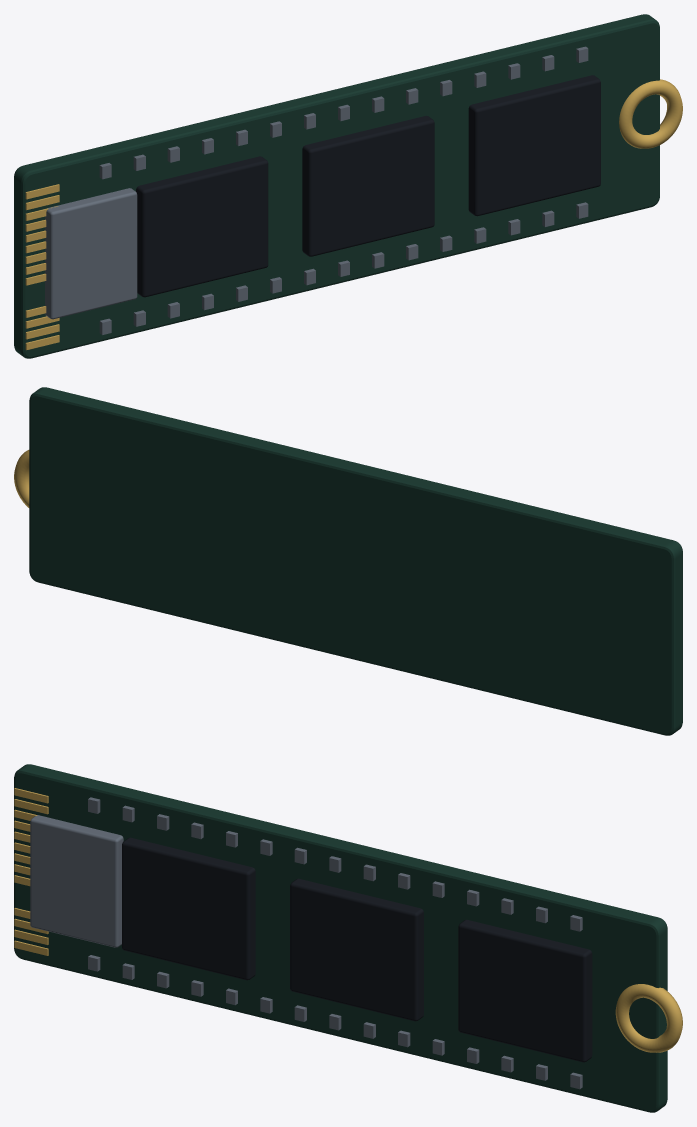
File: nexrig-m2.glb
3 renders of one model, top to bottom at view 1: azimuth 30°, elevation 25°; view 2: azimuth 150°, elevation 25°; view 3: azimuth 330°, elevation 25°, orthographic.
Visible parts, largest first — view 1: Original generic M.2 SSD; view 2: Original generic M.2 SSD; view 3: Original generic M.2 SSD.
Part boxes in pixels (box(x1,y1,x2,y2)): Original generic M.2 SSD: box(14, 14, 682, 358); Original generic M.2 SSD: box(14, 387, 682, 735); Original generic M.2 SSD: box(14, 764, 682, 1112).
Bounding box in the file's own units: 0.8343 × 0.2266 × 0.0368.
